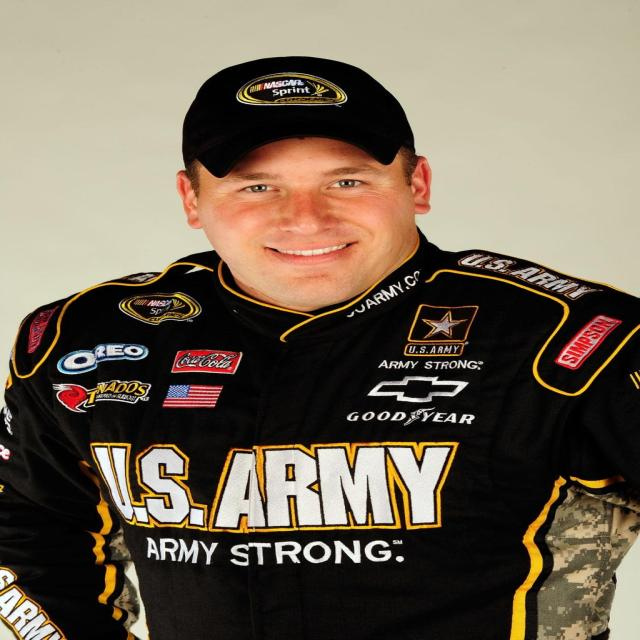Face: (179, 130, 419, 317)
